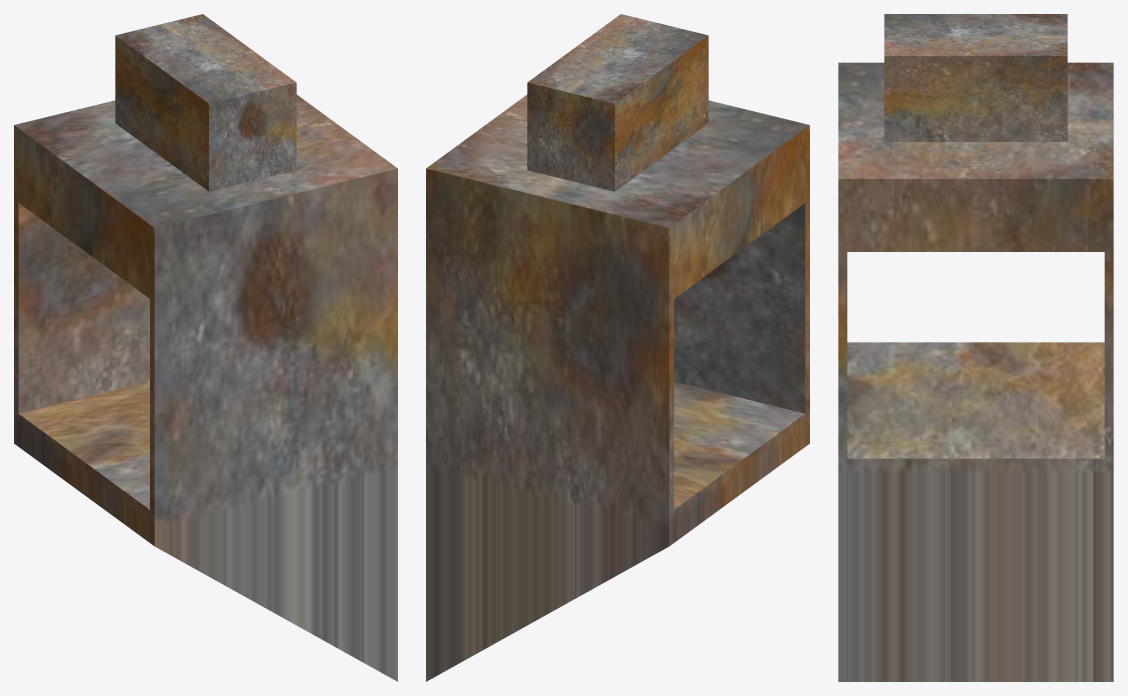
File: Cab.dae
3 views of the same model, side by side, from view 1: azimuth 30°, elevation 25°; view 2: azimuth 150°, elevation 25°; view 3: azimuth 270°, elevation 25° (orthographic). The views are drawn at different scales.
Visible parts, largest first — view 1: Cube, Cube.002; view 2: Cube, Cube.002; view 3: Cube, Cube.002.
Boxes of the visible parts, x1,y1,x2,y2 form: Cube: (14,95,397,681); Cube.002: (115,14,296,191); Cube: (426,95,809,681); Cube.002: (527,14,708,191); Cube: (838,62,1113,681); Cube.002: (884,14,1067,141).
Size of the model in its own units: 81.03 by 81.03 by 191.
1 material, 1 textured.
